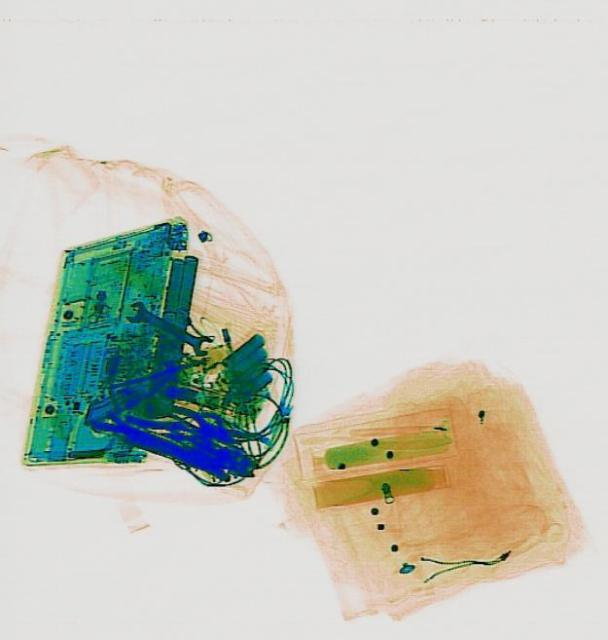Pliers: (123, 392, 234, 451)
Wrench: (120, 296, 215, 359)
